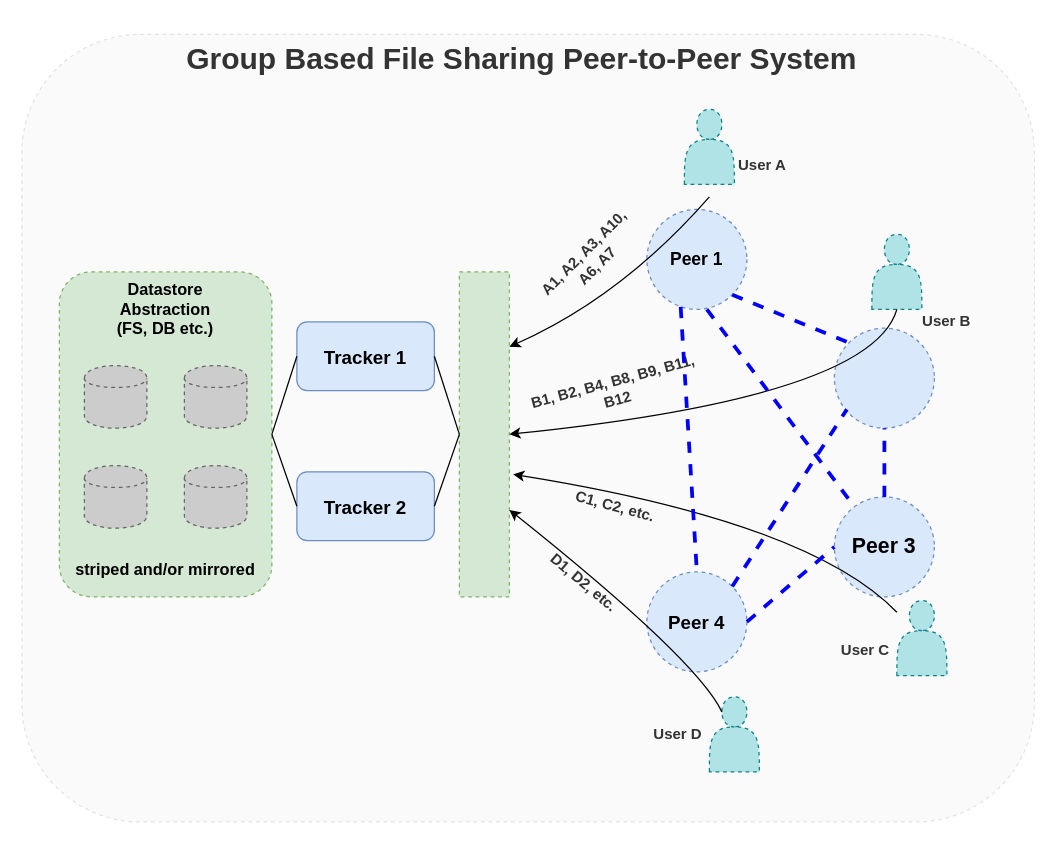
Some shapes in this 1056 by 844 pixel diagram are drawn without their labels. Here are the shapes that lost their labels. From the top down, the centre of each, then its label:
At [883,377]: "Peer 2".
At [483,434]: "Load Balancer".
